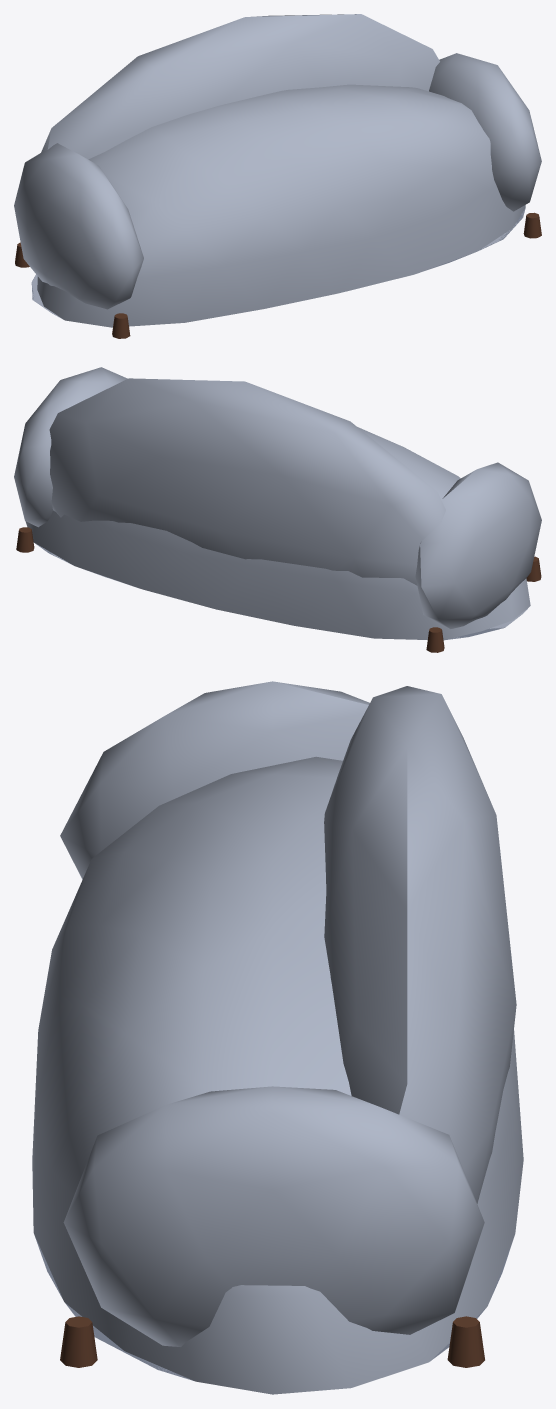
The model's file is ghost_covered_sofa.glb.
The picture shows the model from 3 angles, top to bottom: view 1: azimuth 30°, elevation 25°; view 2: azimuth 150°, elevation 25°; view 3: azimuth 270°, elevation 25°; orthographic projection. The views are drawn at different scales.
Visible parts, largest first — view 1: ghost_covered_sofa; view 2: ghost_covered_sofa; view 3: ghost_covered_sofa.
Boxes of the visible parts, bbox=[...] form: ghost_covered_sofa: bbox=[14, 14, 541, 338]; ghost_covered_sofa: bbox=[14, 367, 541, 652]; ghost_covered_sofa: bbox=[32, 681, 523, 1394].
Size of the model in its own units: 2.04 by 0.9297 by 0.913.
